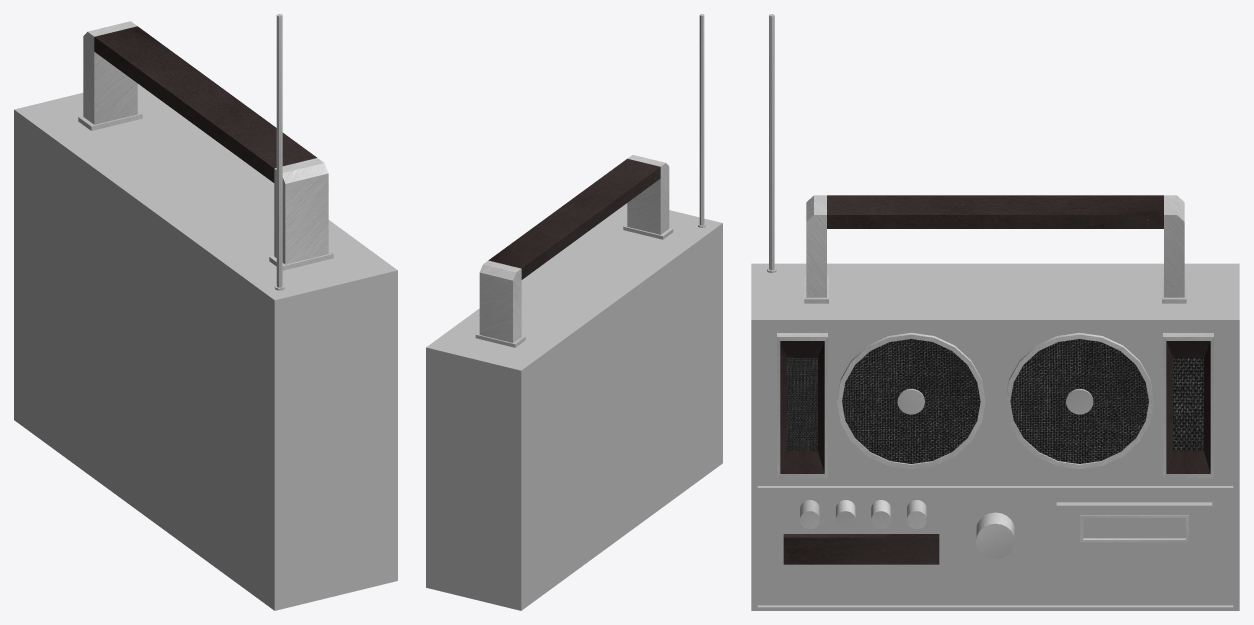
The model's file is staticMesh_prop_Textured_Radio.fbx.
The picture shows the model from 3 angles, left to right: view 1: azimuth 30°, elevation 25°; view 2: azimuth 150°, elevation 25°; view 3: azimuth 270°, elevation 25°; orthographic projection. The views are drawn at different scales.
Parts seen in each view (by area): view 1: Radio_Base_01, Radio_Laniere_01, Radio_Antenne_01; view 2: Radio_Base_01, Radio_Laniere_01, Radio_Antenne_01; view 3: Radio_Base_01, Radio_HautParleur_01, Radio_Laniere_01, Radio_HautParleur_02, Radio_Cadran_01, Radio_Cassette_01, Radio_Bouton_02, Radio_Antenne_01, Radio_Bouton_01.
Part boxes in pixels (x1,y1,x2,y2): Radio_Base_01: [14, 84, 397, 610]; Radio_Laniere_01: [78, 21, 333, 270]; Radio_Antenne_01: [274, 14, 284, 290]; Radio_Base_01: [426, 203, 722, 610]; Radio_Laniere_01: [475, 155, 673, 347]; Radio_Antenne_01: [698, 14, 705, 227]; Radio_Base_01: [751, 263, 1239, 610]; Radio_HautParleur_01: [837, 332, 1153, 469]; Radio_Laniere_01: [804, 195, 1186, 303]; Radio_HautParleur_02: [777, 333, 1213, 478]; Radio_Cadran_01: [1056, 502, 1212, 567]; Radio_Cassette_01: [783, 534, 939, 564]; Radio_Bouton_02: [800, 500, 926, 529]; Radio_Antenne_01: [767, 14, 776, 272]; Radio_Bouton_01: [976, 512, 1014, 558].
Bounding box in the file's own units: 31.85 × 124 × 100.
